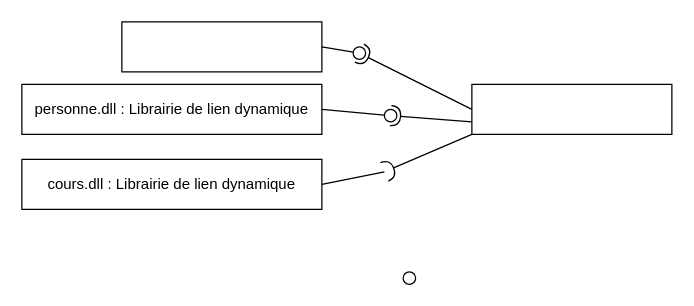
Image size: 694x306. Some labels were removed from this diagram. The box of each missing label's shape, as (x1, y1, x2, y2) in pixels:
registre.cpp : Code source: (121, 21, 322, 72)
registre.exe : Exécutable: (471, 83, 672, 134)
